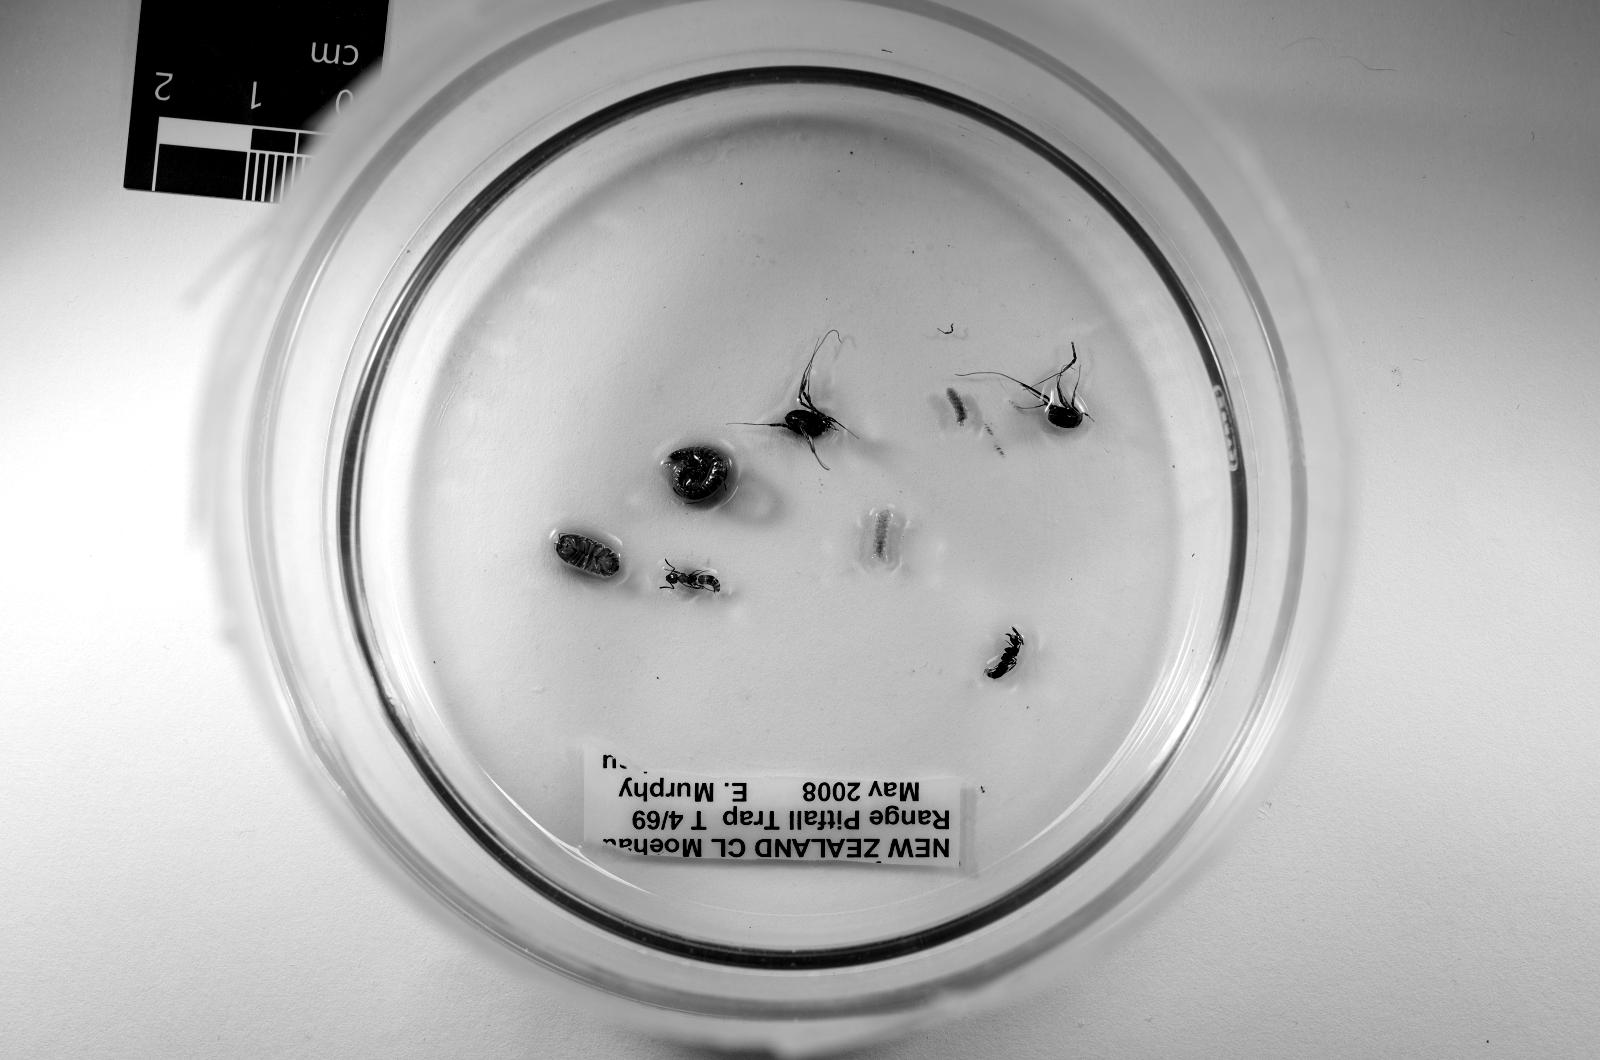diplopoda: (666, 447, 728, 503)
formicidae: (984, 627, 1022, 680), (662, 562, 721, 593)
isopoda: (556, 535, 618, 577)
opiliones: (744, 338, 843, 468), (974, 344, 1088, 428)
